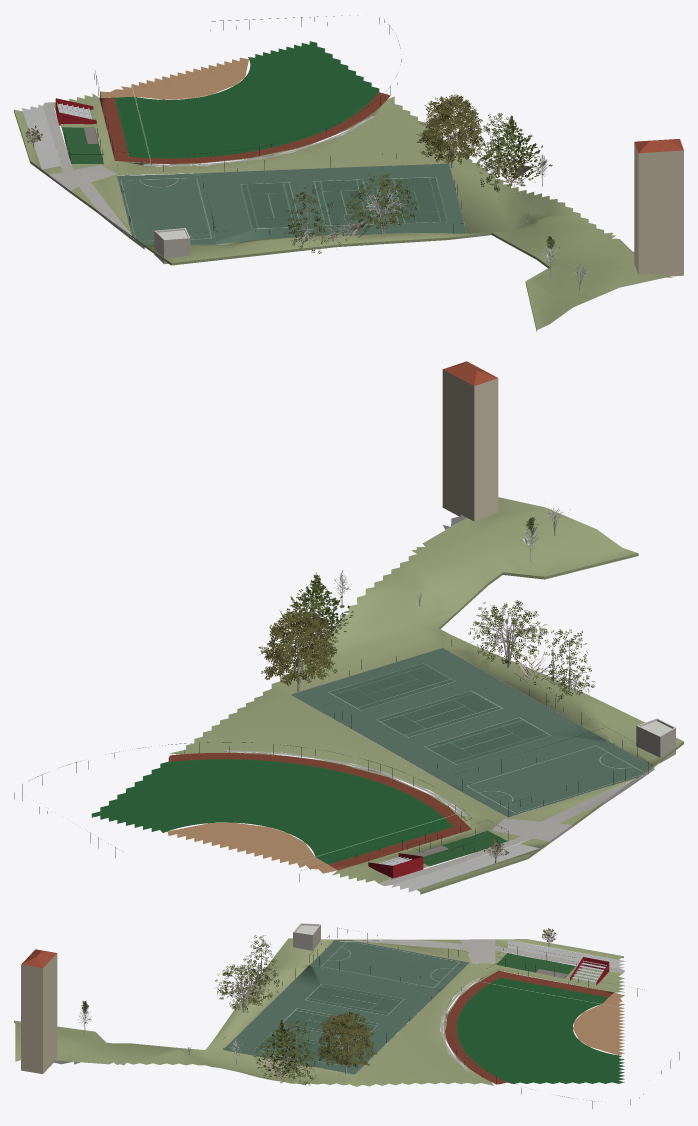
3 renders of one model, top to bottom at view 1: azimuth 30°, elevation 25°; view 2: azimuth 150°, elevation 25°; view 3: azimuth 270°, elevation 25°, orthographic. The views are drawn at different scales.
Parts seen in each view (by area): view 1: SW_ground_northeast_asphalt_-1_4_UNVERIFIED, SW_ground_northeast_turf_-1_4_UNVERIFIED, SW_NE_bldg_CarParc_Diem_stair_tower_NE_UNVERIFIED, SW_Ne_trees_Tree_061_UNVERIFIEDspecies, SW_ground_northeast_gravel_-1_4_UNVERIFIED, SW_ground_northeast_concrete_-1_4_UNVERIFIED, SW_Ne_trees_Tree_056_UNVERIFIEDspecies, SW_Ne_trees_Tree_058_UNVERIFIEDspecies, SW_Ne_trees_Tree_063_UNVERIFIEDspecies, SW_NE_field_shed_SW_UNVERIFIED, SW_NE_field_bullpen_3B_fence_UNVERIFIED, SW_NE_field_stand_LF_1_panels_UNVERIFIED; view 2: SW_ground_northeast_asphalt_-1_4_UNVERIFIED, SW_ground_northeast_turf_-1_4_UNVERIFIED, SW_NE_bldg_CarParc_Diem_stair_tower_NE_UNVERIFIED, SW_Ne_trees_Tree_061_UNVERIFIEDspecies, SW_ground_northeast_gravel_-1_4_UNVERIFIED, SW_ground_northeast_concrete_-1_4_UNVERIFIED, SW_Ne_trees_Tree_056_UNVERIFIEDspecies, SW_Ne_trees_Tree_063_UNVERIFIEDspecies, SW_Ne_trees_Tree_058_UNVERIFIEDspecies, SW_NE_field_shed_SW_UNVERIFIED, SW_NE_field_bullpen_3B_fence_UNVERIFIED; view 3: SW_ground_northeast_asphalt_-1_4_UNVERIFIED, SW_ground_northeast_turf_-1_4_UNVERIFIED, SW_NE_bldg_CarParc_Diem_stair_tower_NE_UNVERIFIED, SW_Ne_trees_Tree_061_UNVERIFIEDspecies, SW_ground_northeast_gravel_-1_4_UNVERIFIED, SW_ground_northeast_concrete_-1_4_UNVERIFIED, SW_Ne_trees_Tree_056_UNVERIFIEDspecies, SW_Ne_trees_Tree_058_UNVERIFIEDspecies, SW_Ne_trees_Tree_063_UNVERIFIEDspecies, SW_NE_field_shed_SW_UNVERIFIED, SW_NE_field_bullpen_3B_fence_UNVERIFIED, SW_NE_field_stand_LF_1_panels_UNVERIFIED (+2 smaller).
Part boxes in pixels (bbox=[...]): SW_ground_northeast_asphalt_-1_4_UNVERIFIED: bbox=[14, 94, 672, 331]; SW_ground_northeast_turf_-1_4_UNVERIFIED: bbox=[61, 41, 389, 163]; SW_NE_bldg_CarParc_Diem_stair_tower_NE_UNVERIFIED: bbox=[634, 139, 683, 276]; SW_Ne_trees_Tree_061_UNVERIFIEDspecies: bbox=[356, 94, 593, 290]; SW_ground_northeast_gravel_-1_4_UNVERIFIED: bbox=[84, 57, 248, 143]; SW_ground_northeast_concrete_-1_4_UNVERIFIED: bbox=[43, 102, 375, 241]; SW_Ne_trees_Tree_056_UNVERIFIEDspecies: bbox=[284, 113, 522, 253]; SW_Ne_trees_Tree_058_UNVERIFIEDspecies: bbox=[328, 115, 552, 237]; SW_Ne_trees_Tree_063_UNVERIFIEDspecies: bbox=[347, 172, 419, 231]; SW_NE_field_shed_SW_UNVERIFIED: bbox=[154, 228, 190, 264]; SW_NE_field_bullpen_3B_fence_UNVERIFIED: bbox=[61, 15, 463, 233]; SW_NE_field_stand_LF_1_panels_UNVERIFIED: bbox=[55, 98, 96, 125]; SW_ground_northeast_asphalt_-1_4_UNVERIFIED: bbox=[169, 497, 683, 894]; SW_ground_northeast_turf_-1_4_UNVERIFIED: bbox=[91, 753, 507, 870]; SW_NE_bldg_CarParc_Diem_stair_tower_NE_UNVERIFIED: bbox=[442, 361, 498, 521]; SW_Ne_trees_Tree_061_UNVERIFIEDspecies: bbox=[258, 508, 569, 691]; SW_ground_northeast_gravel_-1_4_UNVERIFIED: bbox=[167, 822, 448, 873]; SW_ground_northeast_concrete_-1_4_UNVERIFIED: bbox=[225, 750, 642, 886]; SW_Ne_trees_Tree_056_UNVERIFIEDspecies: bbox=[287, 583, 595, 702]; SW_Ne_trees_Tree_063_UNVERIFIEDspecies: bbox=[468, 600, 548, 664]; SW_Ne_trees_Tree_058_UNVERIFIEDspecies: bbox=[279, 572, 549, 685]; SW_NE_field_shed_SW_UNVERIFIED: bbox=[636, 718, 675, 763]; SW_NE_field_bullpen_3B_fence_UNVERIFIED: bbox=[14, 639, 652, 881]; SW_ground_northeast_asphalt_-1_4_UNVERIFIED: bbox=[14, 938, 625, 1086]; SW_ground_northeast_turf_-1_4_UNVERIFIED: bbox=[445, 953, 624, 1084]; SW_NE_bldg_CarParc_Diem_stair_tower_NE_UNVERIFIED: bbox=[21, 949, 57, 1073]; SW_Ne_trees_Tree_061_UNVERIFIEDspecies: bbox=[188, 970, 377, 1073]; SW_ground_northeast_gravel_-1_4_UNVERIFIED: bbox=[536, 969, 624, 1055]; SW_ground_northeast_concrete_-1_4_UNVERIFIED: bbox=[353, 939, 624, 1070]; SW_Ne_trees_Tree_056_UNVERIFIEDspecies: bbox=[238, 935, 316, 1085]; SW_Ne_trees_Tree_058_UNVERIFIEDspecies: bbox=[235, 983, 312, 1079]; SW_Ne_trees_Tree_063_UNVERIFIEDspecies: bbox=[215, 960, 272, 1013]; SW_NE_field_shed_SW_UNVERIFIED: bbox=[293, 923, 320, 950]; SW_NE_field_bullpen_3B_fence_UNVERIFIED: bbox=[223, 927, 679, 1108]; SW_NE_field_stand_LF_1_panels_UNVERIFIED: bbox=[570, 957, 609, 984].
Bounding box in the file's own units: 107 × 38.68 × 177.
Materials: 30 (11 with a texture image).
